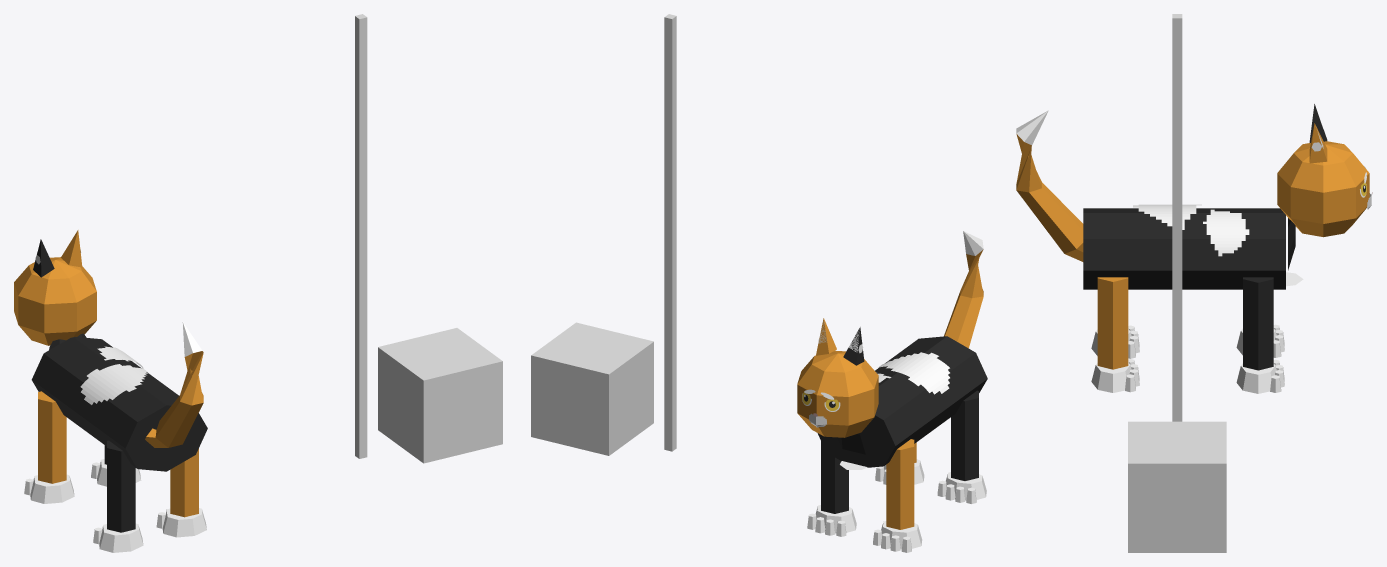
File: cat-calico_LOD0_roblox.fbx
3 renders of one model, left to right at view 1: azimuth 30°, elevation 25°; view 2: azimuth 150°, elevation 25°; view 3: azimuth 270°, elevation 25°, orthographic. The views are drawn at different scales.
Visible parts, largest first — view 1: 1_Stud_Cube, Cat_BlackMat_body, 5.3_Stud_Height_Ruler, Cat_BlackMat_head, Cat_BlackMat_frontL_leg, Cat_BlackMat_backL_leg, Cat_BlackMat_tail, Cat_WhiteMat_spot_1, Cat_BlackMat_backR_leg, Cat_WhiteMat_backL_paw, Cat_WhiteMat_backR_paw, Cat_WhiteMat_frontL_paw; view 2: 1_Stud_Cube, Cat_BlackMat_body, 5.3_Stud_Height_Ruler, Cat_BlackMat_head, Cat_BlackMat_frontL_leg, Cat_BlackMat_backL_leg, Cat_BlackMat_tail, Cat_WhiteMat_spot_1, Cat_BlackMat_frontR_leg, Cat_WhiteMat_frontR_paw, Cat_WhiteMat_backL_paw, Cat_WhiteMat_frontL_paw (+1 smaller); view 3: Cat_BlackMat_body, 1_Stud_Cube, Cat_BlackMat_head, 5.3_Stud_Height_Ruler, Cat_BlackMat_tail, Cat_BlackMat_backR_leg, Cat_BlackMat_frontR_leg, Cat_WhiteMat_spot_2, Cat_WhiteMat_frontR_paw, Cat_WhiteMat_backR_paw, Cat_WhiteMat_spot_1, Cat_WhiteMat_tailTip (+3 smaller).
Boxes of the visible parts, x1,y1,x2,y2 form: 1_Stud_Cube: (378, 328, 502, 463); Cat_BlackMat_body: (31, 337, 207, 471); 5.3_Stud_Height_Ruler: (355, 14, 367, 458); Cat_BlackMat_head: (14, 257, 96, 345); Cat_BlackMat_frontL_leg: (38, 391, 66, 483); Cat_BlackMat_backL_leg: (107, 440, 135, 532); Cat_BlackMat_tail: (155, 351, 203, 447); Cat_WhiteMat_spot_1: (80, 364, 148, 404); Cat_BlackMat_backR_leg: (170, 448, 198, 517); Cat_WhiteMat_backL_paw: (93, 523, 143, 552); Cat_WhiteMat_backR_paw: (156, 508, 206, 537); Cat_WhiteMat_frontL_paw: (24, 474, 74, 503); 1_Stud_Cube: (531, 322, 653, 455); Cat_BlackMat_body: (817, 336, 987, 467); 5.3_Stud_Height_Ruler: (664, 14, 676, 451); Cat_BlackMat_head: (797, 350, 878, 437); Cat_BlackMat_frontL_leg: (886, 439, 914, 529); Cat_BlackMat_backL_leg: (951, 390, 978, 480); Cat_BlackMat_tail: (944, 249, 983, 348); Cat_WhiteMat_spot_1: (878, 352, 949, 394); Cat_BlackMat_frontR_leg: (821, 441, 848, 513); Cat_WhiteMat_frontR_paw: (807, 505, 856, 536); Cat_WhiteMat_backL_paw: (937, 472, 986, 503); Cat_WhiteMat_frontL_paw: (873, 521, 922, 552); Cat_BlackMat_body: (1083, 208, 1285, 289); 1_Stud_Cube: (1128, 421, 1226, 552); Cat_BlackMat_head: (1277, 141, 1369, 237); 5.3_Stud_Height_Ruler: (1172, 14, 1182, 421); Cat_BlackMat_tail: (1016, 134, 1083, 253); Cat_BlackMat_backR_leg: (1097, 277, 1128, 369); Cat_BlackMat_frontR_leg: (1243, 277, 1273, 370); Cat_WhiteMat_spot_2: (1203, 209, 1249, 256); Cat_WhiteMat_frontR_paw: (1236, 359, 1284, 393); Cat_WhiteMat_backR_paw: (1091, 359, 1139, 392); Cat_WhiteMat_spot_1: (1133, 204, 1201, 229); Cat_WhiteMat_tailTip: (1016, 110, 1048, 145).
Bounding box in the file's own units: 5.19 × 3.61 × 5.3.
